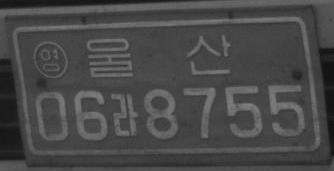0: (34, 90, 69, 142)
5: (266, 82, 305, 138), (223, 84, 263, 138)
6: (73, 89, 108, 142)
7: (181, 86, 216, 140)
8: (141, 87, 179, 140)
라: (110, 92, 138, 138)
영: (32, 40, 68, 80)
울산_D: (85, 33, 231, 78)
